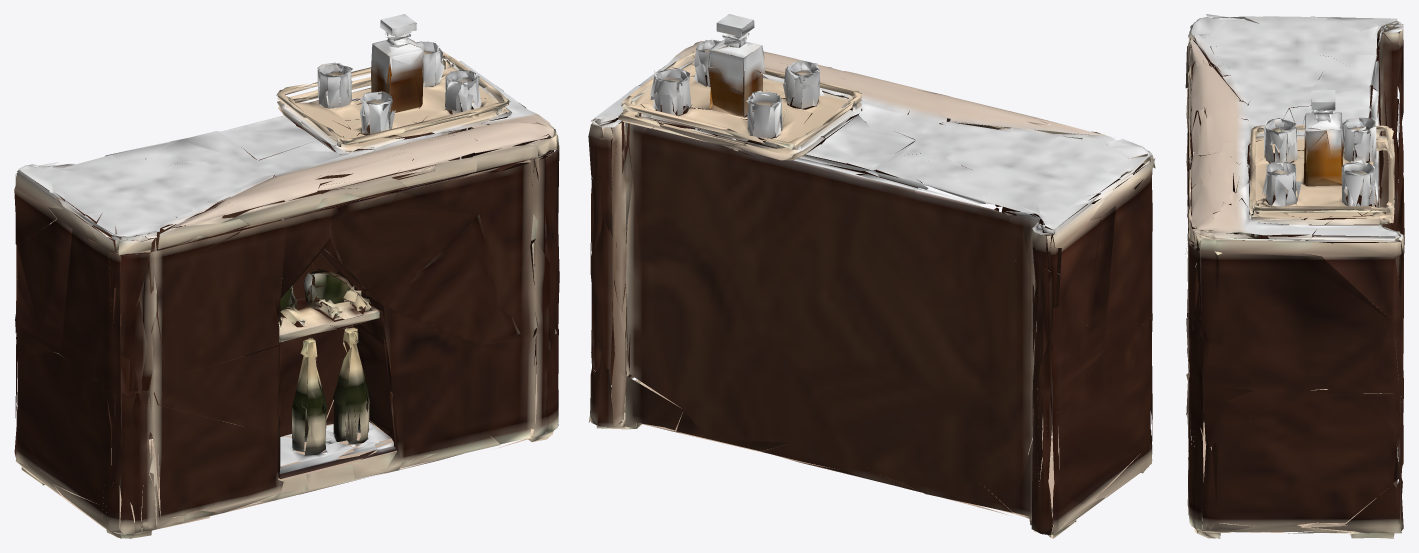
File: jetbar.glb
3 views of the same model, side by side, from view 1: azimuth 30°, elevation 25°; view 2: azimuth 150°, elevation 25°; view 3: azimuth 270°, elevation 25° (orthographic). The views are drawn at different scales.
Visible parts, largest first — view 1: LO.001; view 2: LO.001; view 3: LO.001.
Boxes of the visible parts, left/top/right/bottom form: LO.001: left=14, top=14, right=559, bottom=538; LO.001: left=588, top=14, right=1155, bottom=538; LO.001: left=1185, top=14, right=1404, bottom=538.
Bounding box in the file's own units: 1.93 × 1.58 × 0.8002.
1 material, 1 textured.
